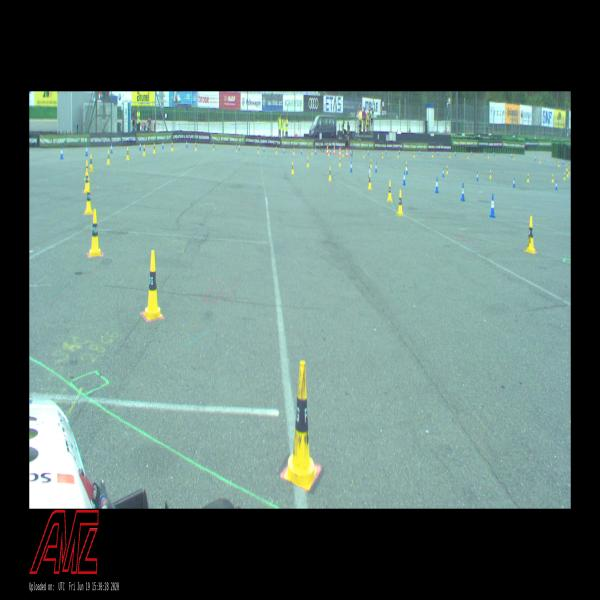blue_cone: (489, 194, 495, 217), (460, 183, 465, 201), (435, 177, 438, 193), (60, 146, 63, 159), (403, 171, 406, 184), (85, 144, 88, 155), (110, 143, 113, 153), (350, 160, 352, 171), (375, 162, 377, 173), (368, 166, 370, 177), (406, 164, 408, 174), (513, 178, 515, 187), (162, 140, 164, 149), (476, 172, 478, 181), (140, 142, 142, 151), (556, 181, 558, 189), (186, 140, 188, 147), (263, 145, 265, 152), (283, 148, 285, 154), (562, 159, 564, 165), (398, 148, 400, 154), (315, 148, 317, 154), (484, 151, 486, 156), (443, 168, 444, 177), (511, 151, 512, 158), (535, 155, 536, 161), (419, 148, 420, 154), (301, 148, 302, 154), (330, 148, 331, 154), (471, 150, 472, 156), (239, 145, 240, 150), (455, 151, 456, 156), (367, 149, 368, 154), (438, 151, 438, 155), (386, 148, 386, 154), (494, 151, 494, 156)
large_orange_cone: (339, 145, 341, 156), (346, 147, 348, 157), (333, 146, 335, 154), (327, 146, 328, 154)
yellow_cone: (284, 362, 318, 489), (143, 250, 163, 320), (89, 209, 101, 256), (526, 216, 536, 254), (85, 184, 93, 214), (397, 190, 403, 215), (387, 181, 392, 201), (84, 160, 89, 180), (84, 172, 88, 192), (367, 174, 372, 189), (89, 154, 93, 171), (329, 166, 332, 181), (107, 150, 110, 164), (126, 147, 129, 160), (292, 162, 294, 174), (143, 144, 145, 156), (307, 156, 309, 167), (339, 156, 341, 167), (405, 161, 407, 171), (153, 143, 155, 153), (370, 159, 372, 168), (527, 173, 529, 182), (446, 166, 448, 174), (552, 174, 554, 182), (195, 142, 197, 150), (171, 142, 173, 150), (213, 143, 215, 151), (328, 148, 330, 156), (363, 151, 365, 158), (342, 150, 344, 157), (413, 151, 415, 157), (311, 149, 313, 155), (568, 167, 570, 173), (539, 158, 541, 163), (490, 170, 491, 178), (564, 172, 565, 180), (397, 151, 398, 158), (258, 146, 259, 153), (382, 152, 383, 159), (567, 169, 568, 176), (276, 147, 277, 154), (566, 164, 567, 170), (236, 145, 237, 151), (513, 154, 514, 160), (432, 152, 433, 157), (558, 161, 559, 166), (449, 153, 450, 158), (488, 154, 489, 158), (468, 154, 468, 158), (294, 147, 294, 154)
